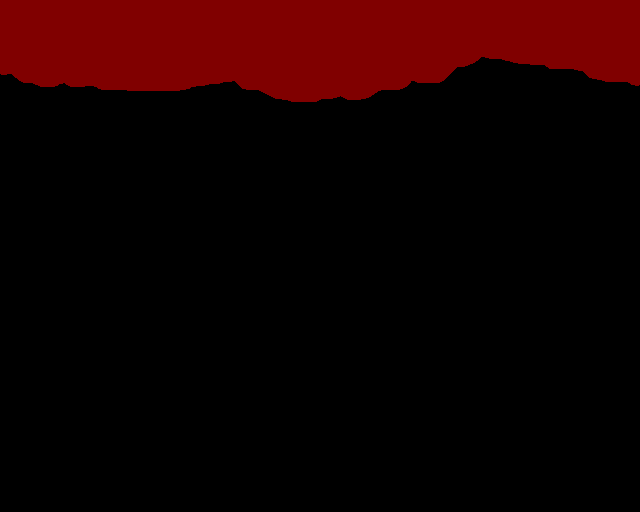Sky: (1, 1, 639, 102)
